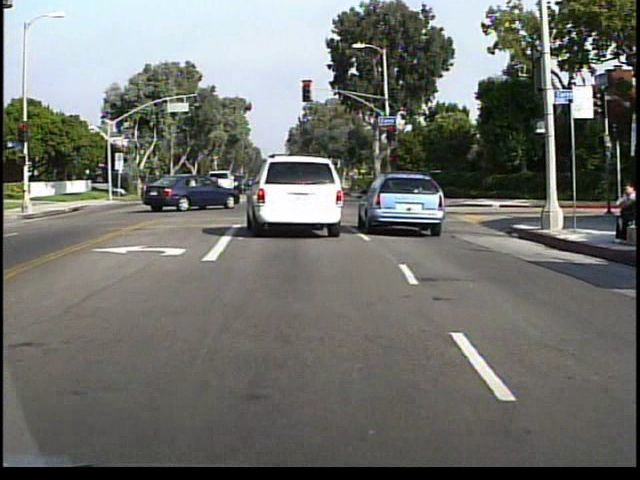person: (606, 179, 638, 247)
